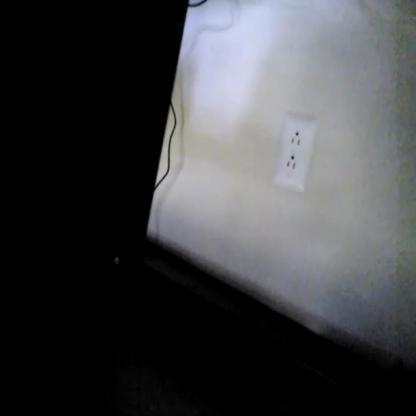OUTLET: (272, 118, 315, 192)
